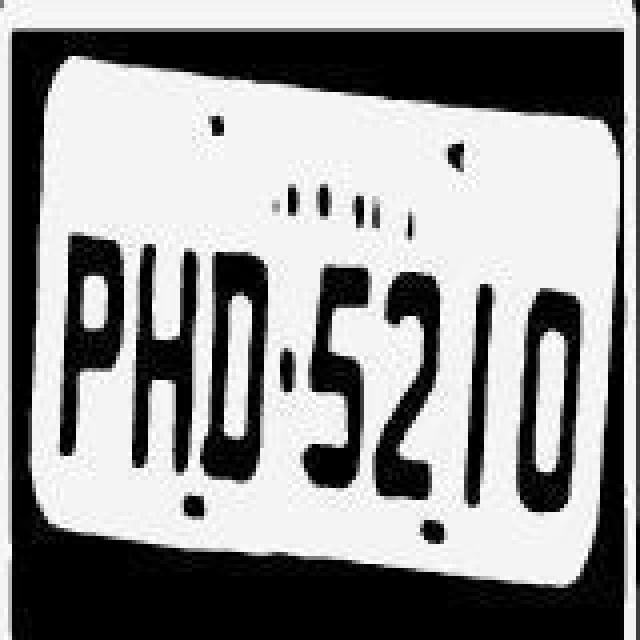1: (450, 266, 502, 518)
2: (370, 248, 446, 504)
5: (296, 238, 376, 498)
D: (198, 226, 274, 486)
H: (128, 220, 208, 468)
O: (512, 264, 592, 520)
P: (48, 202, 128, 478)
